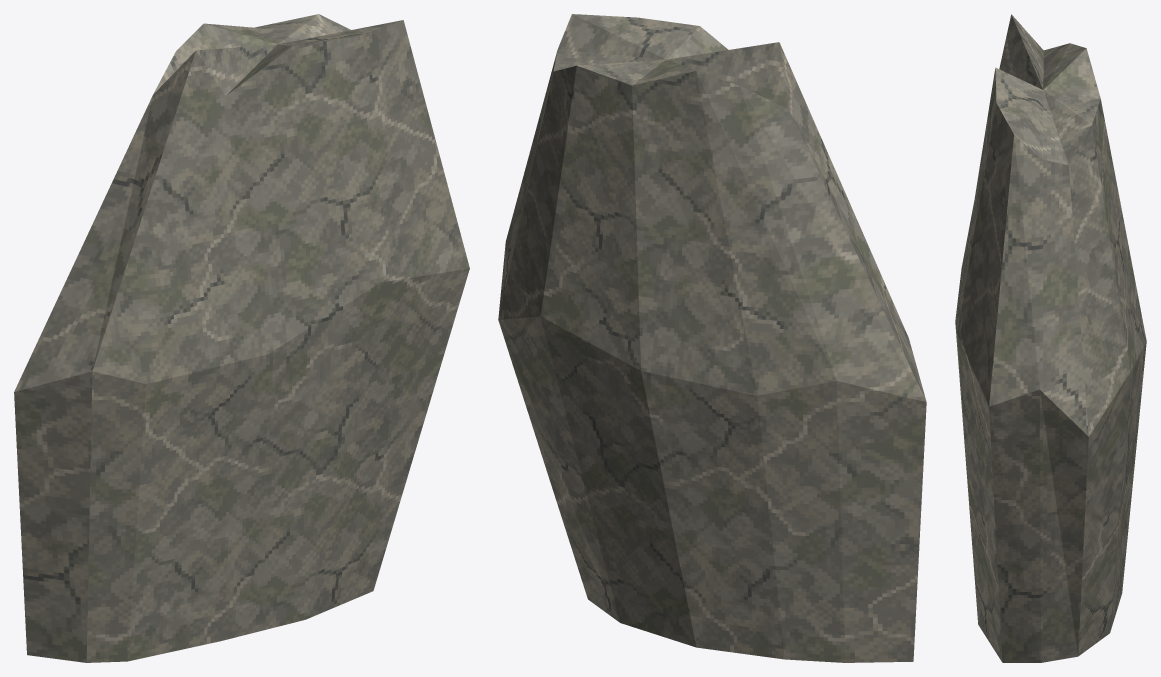
The model's file is Masso_02_LastraInclinata.obj.
The picture shows the model from 3 angles, left to right: view 1: azimuth 30°, elevation 25°; view 2: azimuth 150°, elevation 25°; view 3: azimuth 270°, elevation 25°; orthographic projection. The views are drawn at different scales.
Parts seen in each view (by area): view 1: Masso_02_LastraInclinata; view 2: Masso_02_LastraInclinata; view 3: Masso_02_LastraInclinata.
Boxes of the visible parts, bbox=[...] form: Masso_02_LastraInclinata: bbox=[14, 14, 469, 662]; Masso_02_LastraInclinata: bbox=[498, 14, 926, 662]; Masso_02_LastraInclinata: bbox=[955, 14, 1146, 662].
Size of the model in its own units: 2.4 by 3.1 by 0.95.
